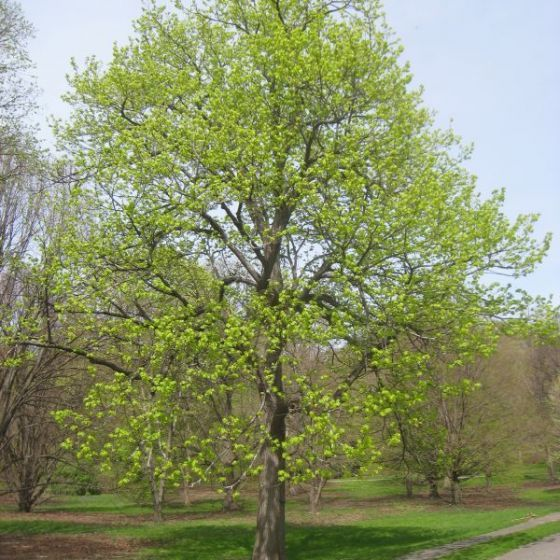tree: (1, 1, 560, 560)
